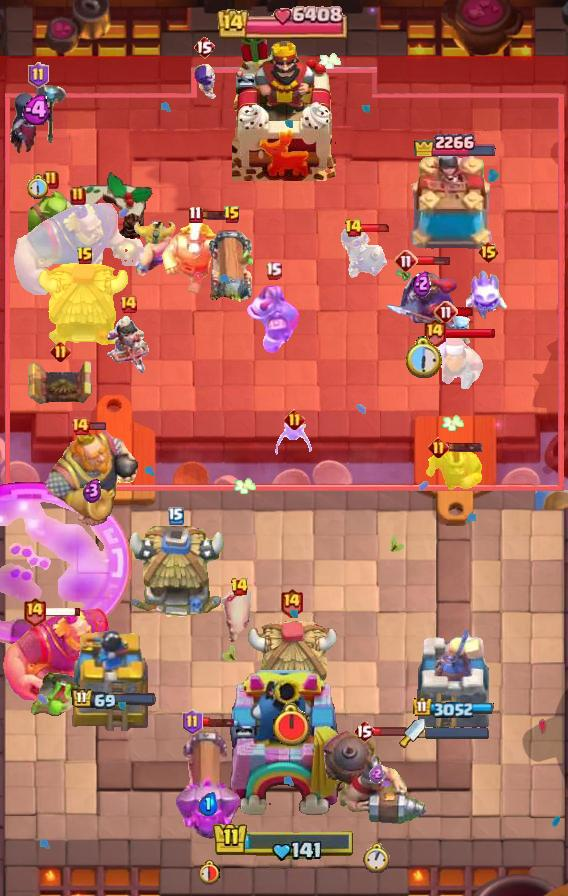bar: (414, 623, 492, 731)
bar-level: (27, 671, 81, 719)
barbarian: (275, 420, 313, 458)
battle-healer: (209, 224, 255, 306)
clock: (212, 821, 356, 863), (217, 5, 351, 39)
electro-spirit: (22, 95, 54, 125), (413, 269, 431, 297), (83, 477, 102, 503), (198, 792, 218, 816), (369, 764, 383, 783)
elixir: (272, 704, 313, 749), (403, 337, 442, 380), (363, 842, 390, 873), (196, 859, 220, 885), (26, 173, 49, 198)
elixir-golem-big: (381, 265, 463, 333)
elixir-golem-small: (246, 283, 300, 355)
emote: (444, 327, 496, 339), (200, 209, 237, 221), (445, 441, 482, 453), (200, 716, 236, 728), (417, 255, 452, 267), (45, 607, 83, 618), (372, 726, 408, 737), (360, 223, 392, 233), (457, 306, 476, 318), (88, 421, 107, 431)
flying-machine: (20, 190, 82, 246), (424, 444, 484, 498)
furnace: (174, 724, 242, 844)
giant: (222, 588, 256, 646)
giant-skeleton: (38, 426, 146, 530)
goblin: (191, 63, 217, 99)
goblin-ball: (339, 225, 389, 279)
goblin-brawler: (24, 359, 96, 407)
goblin-giant: (132, 220, 176, 276)
goblin-hut: (160, 220, 248, 296)
heal-spirit: (446, 313, 474, 345)
king-tower: (219, 670, 349, 826), (232, 39, 336, 181)
king-tower-bar: (425, 727, 489, 739)
knight-evolution: (0, 482, 132, 645)
lightning: (0, 608, 136, 708), (11, 202, 146, 302)
mighty-miner: (417, 332, 483, 396)
mirror: (466, 266, 510, 320)
prince: (125, 526, 227, 622), (38, 261, 132, 351), (244, 619, 338, 709)
queen-tower: (64, 621, 164, 731), (407, 156, 499, 256)
rascal-boy: (7, 83, 69, 155)
selected: (412, 128, 497, 156), (71, 688, 157, 712), (414, 698, 495, 719)
skeleton-dragon: (104, 315, 152, 377)
text: (422, 317, 447, 348), (21, 597, 46, 628), (280, 587, 305, 617), (394, 249, 418, 273), (434, 300, 458, 324), (477, 240, 500, 264), (27, 62, 48, 88), (181, 709, 202, 735), (193, 35, 215, 59), (353, 719, 375, 743), (50, 341, 71, 363), (284, 409, 305, 431), (428, 437, 449, 459), (118, 294, 138, 314), (70, 416, 90, 436), (344, 218, 363, 238), (230, 577, 249, 597), (223, 205, 241, 225), (76, 246, 94, 266), (265, 260, 282, 279), (43, 170, 59, 190), (70, 186, 86, 206), (168, 507, 184, 525), (188, 204, 203, 223)
wizard: (320, 729, 432, 827)
